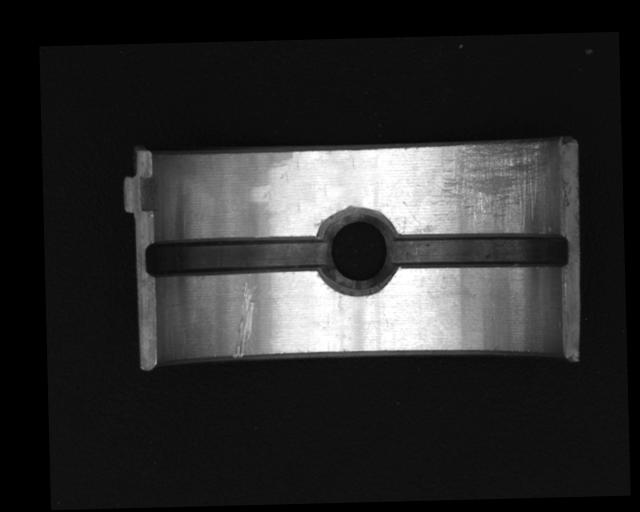gap: (144, 234, 326, 282), (394, 229, 570, 273)
hole: (315, 207, 398, 294)
nick: (230, 281, 259, 358)
scratch: (427, 138, 554, 234)
